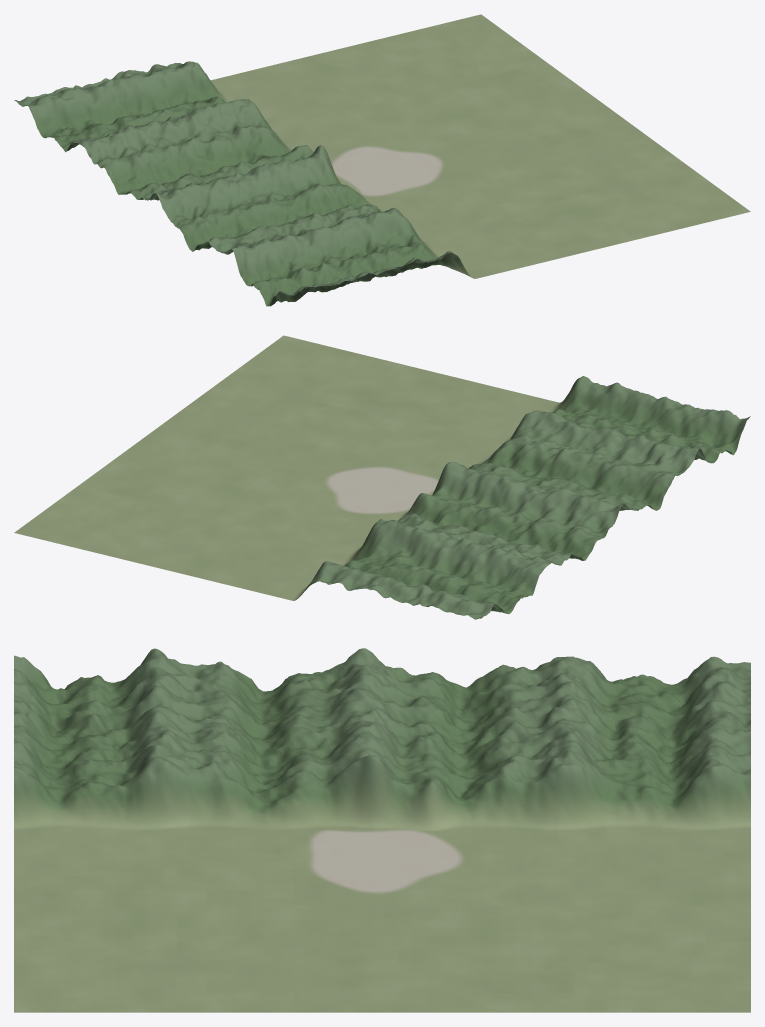
Rendered from Piso_Cali.fbx.
3 views of the same model, one above another, from view 1: azimuth 30°, elevation 25°; view 2: azimuth 150°, elevation 25°; view 3: azimuth 270°, elevation 25° (orthographic). The views are drawn at different scales.
Visible parts, largest first — view 1: terreno; view 2: terreno; view 3: terreno.
Boxes of the visible parts, bbox=[...] form: terreno: bbox=[14, 14, 750, 306]; terreno: bbox=[14, 335, 750, 619]; terreno: bbox=[14, 648, 750, 1012].
Size of the model in its own units: 110000 by 9526 by 110000.
